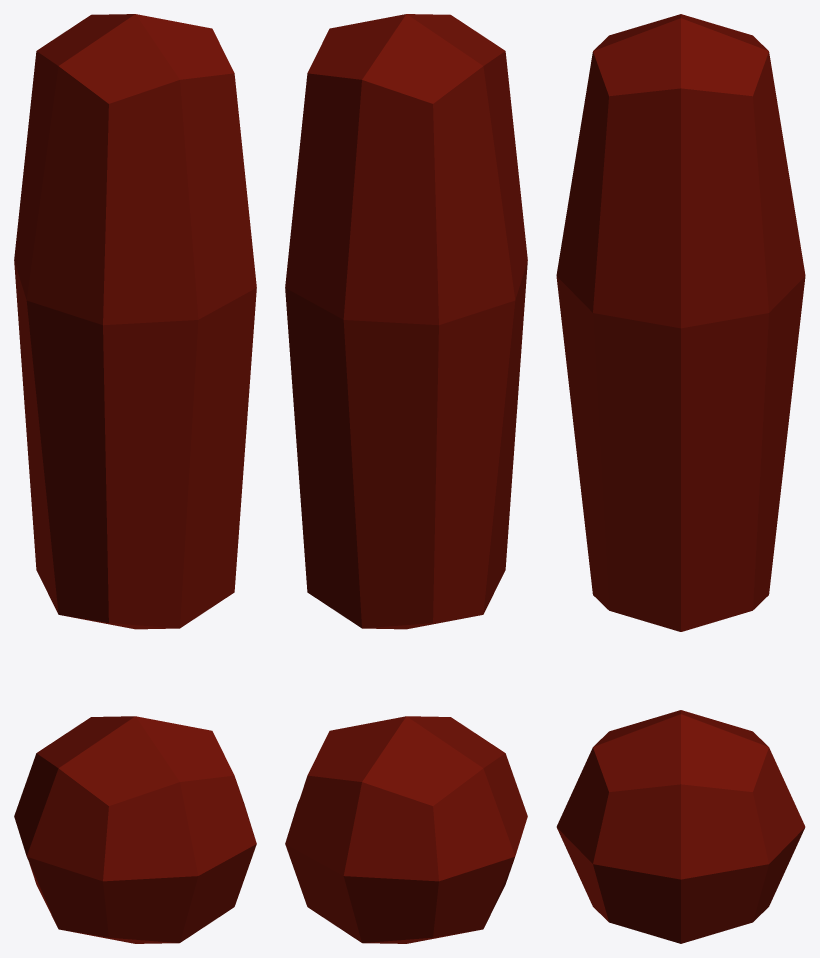
Rendered from EXCLAMATION.glb.
3 renders of one model, left to right at view 1: azimuth 30°, elevation 25°; view 2: azimuth 150°, elevation 25°; view 3: azimuth 270°, elevation 25°, orthographic.
Parts seen in each view (by area): view 1: Cube; view 2: Cube; view 3: Cube.
Part boxes in pixels (x1,y1,x2,y2): Cube: (14, 14, 256, 943); Cube: (285, 14, 527, 943); Cube: (556, 14, 805, 943).
Bounding box in the file's own units: 0.5578 × 2.28 × 0.5578.
